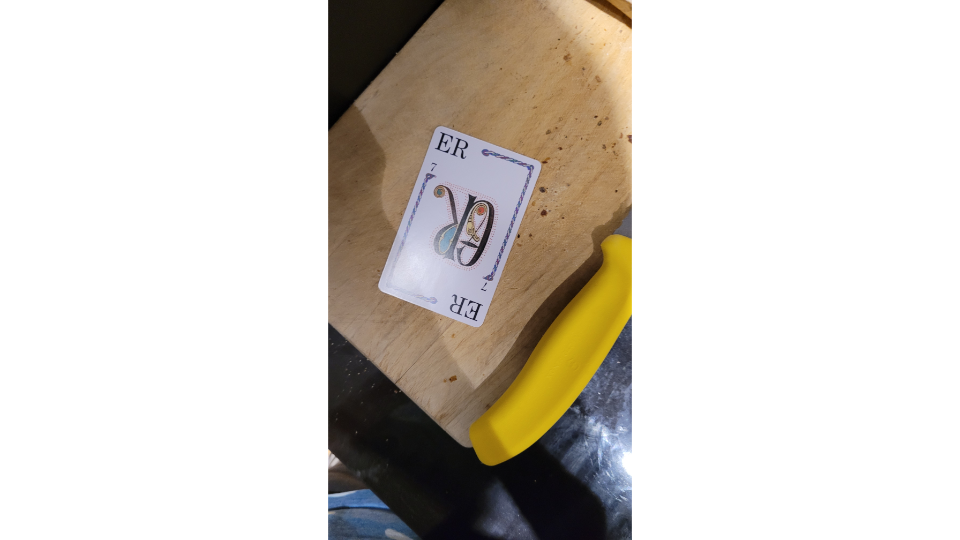ER: (374, 122, 545, 330)
